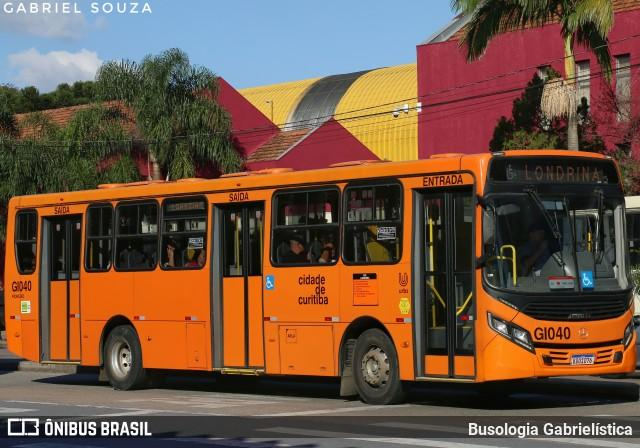LONDRINA: (519, 160, 608, 186)
